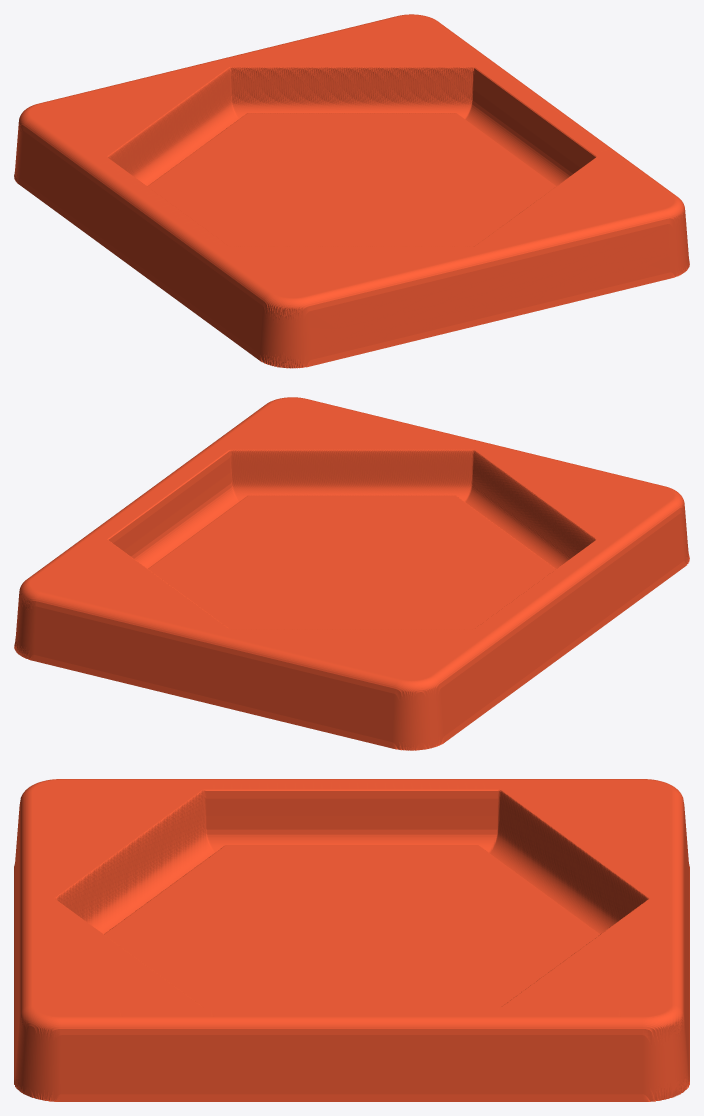
The model's file is mold.glb.
3 renders of one model, top to bottom at view 1: azimuth 30°, elevation 25°; view 2: azimuth 150°, elevation 25°; view 3: azimuth 270°, elevation 25°, orthographic. The views are drawn at different scales.
Visible parts, largest first — view 1: geometry_0; view 2: geometry_0; view 3: geometry_0.
Boxes of the visible parts, bbox=[...] form: geometry_0: bbox=[14, 14, 689, 368]; geometry_0: bbox=[14, 397, 689, 750]; geometry_0: bbox=[14, 779, 689, 1101].
Bounding box in the file's own units: 0.1154 × 0.0165 × 0.1307.
